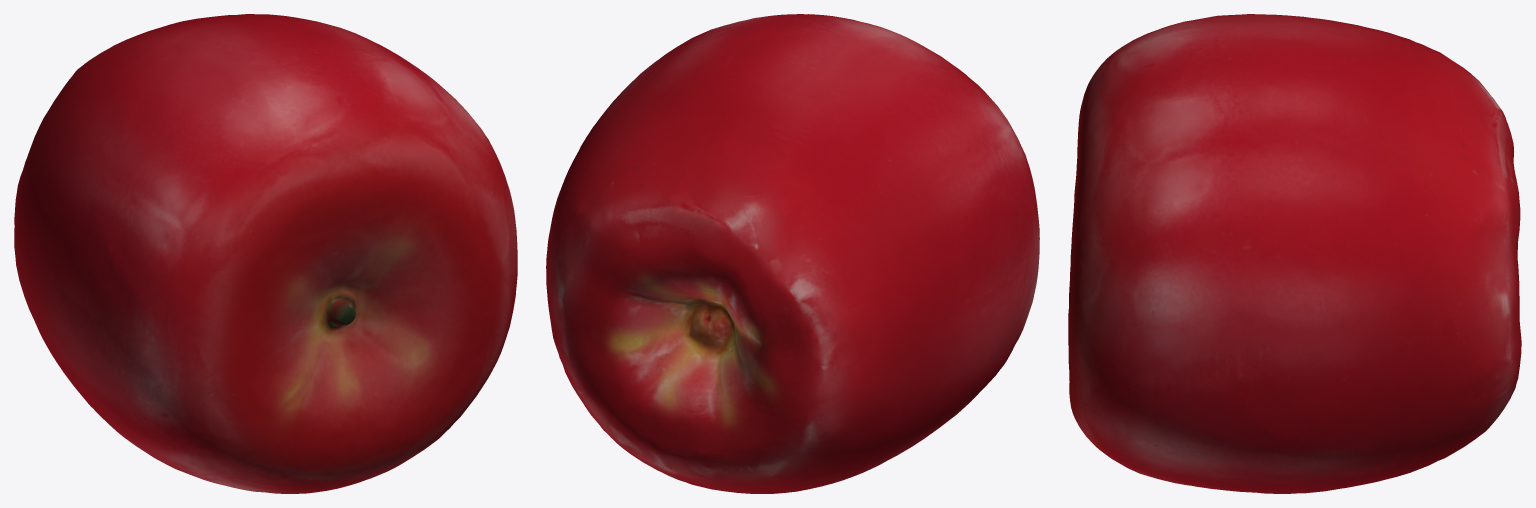
File: apple.obj
3 renders of one model, left to right at view 1: azimuth 30°, elevation 25°; view 2: azimuth 150°, elevation 25°; view 3: azimuth 270°, elevation 25°, orthographic. The views are drawn at different scales.
Bounding box in the file's own units: 0.0747 × 0.0747 × 0.0712.
Materials: 1 (1 with a texture image).
